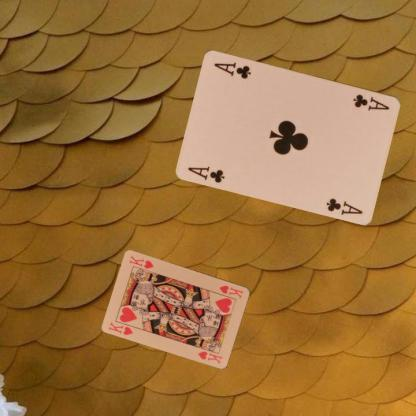Ac: (351, 91, 391, 112), (186, 164, 226, 184)
Kh: (106, 319, 135, 336), (217, 282, 244, 300)
